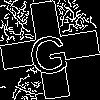G: (25, 25, 71, 77)
